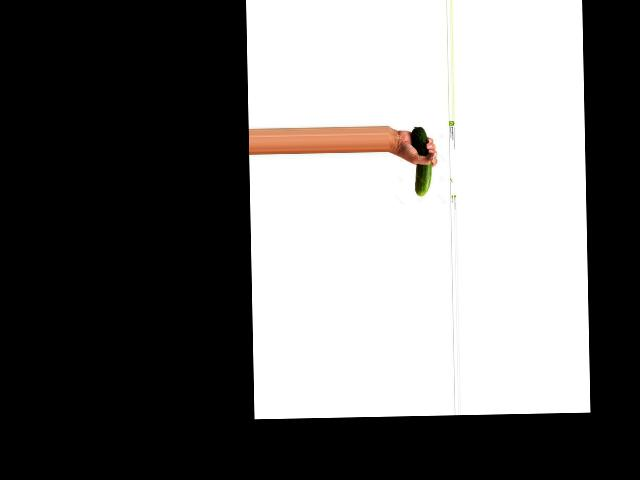cucumber: (412, 127, 433, 196)
